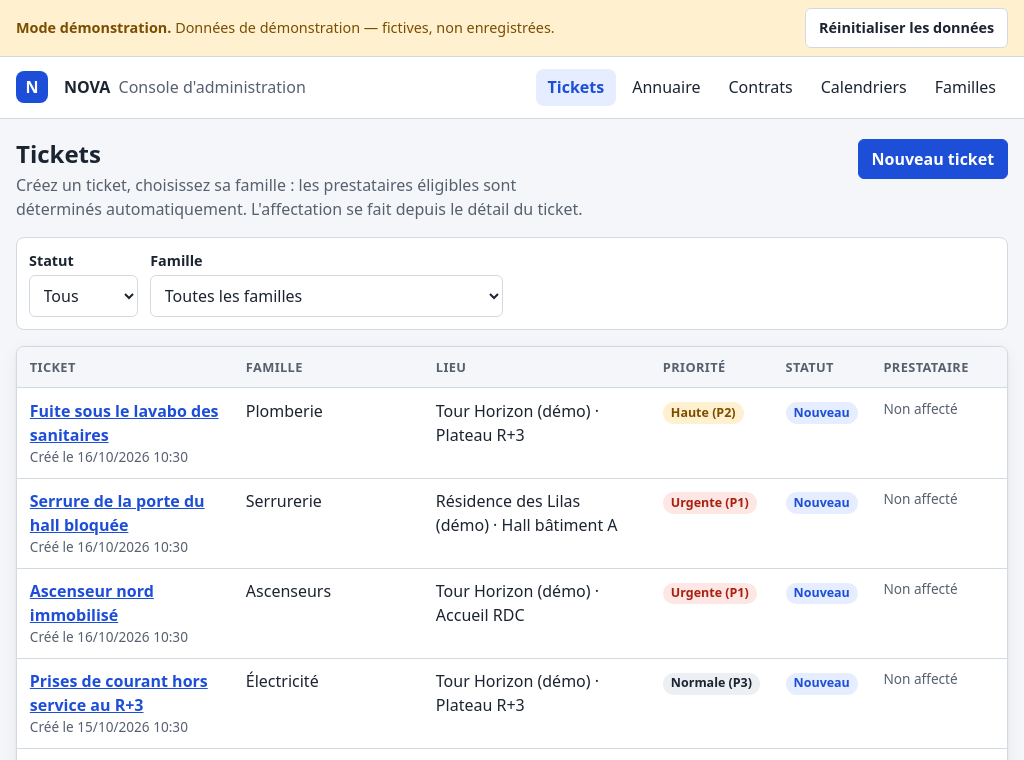
Test: liste et création de tickets › erreur serveur à la création : message dans la fenêtre
Click the button "Nouveau ticket" at {"x": 933, "y": 159}, box [858,139,1008,179]
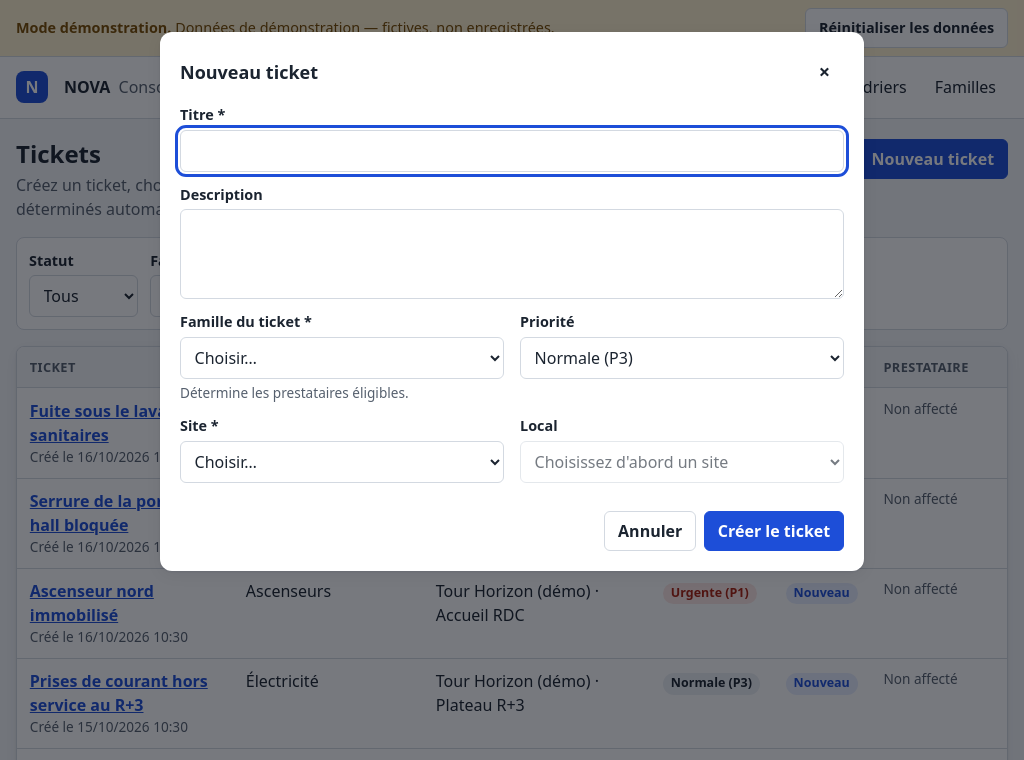
Type "X" into the field labelled "Titre *" at {"x": 512, "y": 151}, box [180,130,844,172]
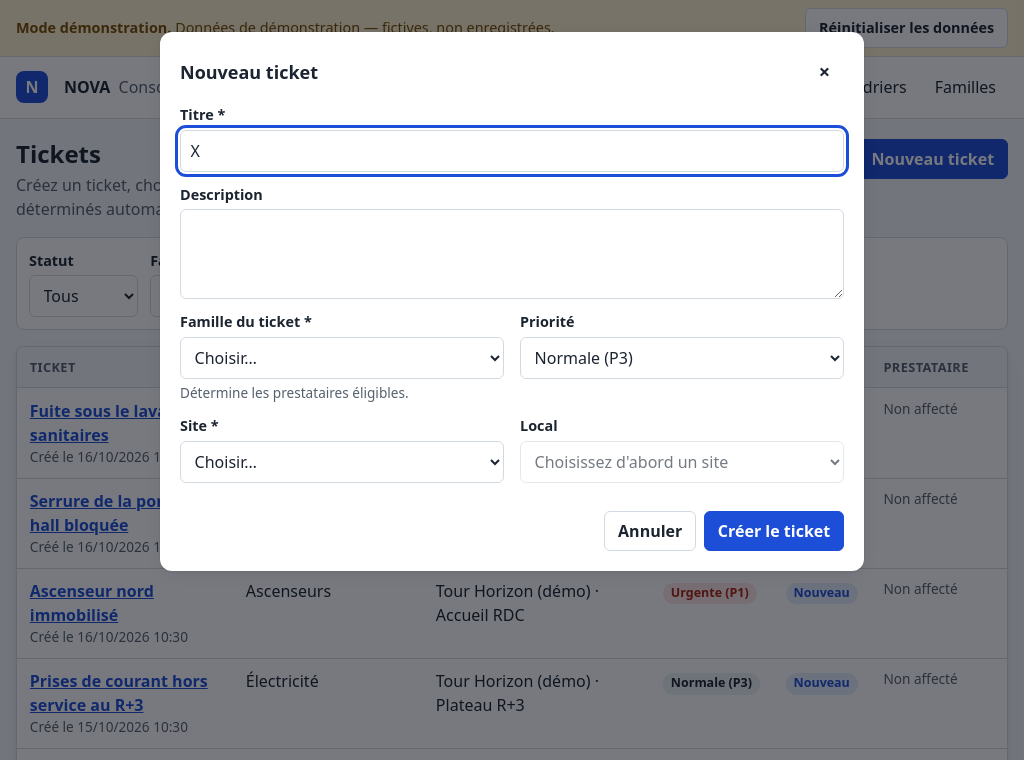
Select "Plomberie" in the dropdown labelled "Famille du ticket *" at {"x": 342, "y": 358}, box [180,337,504,379]
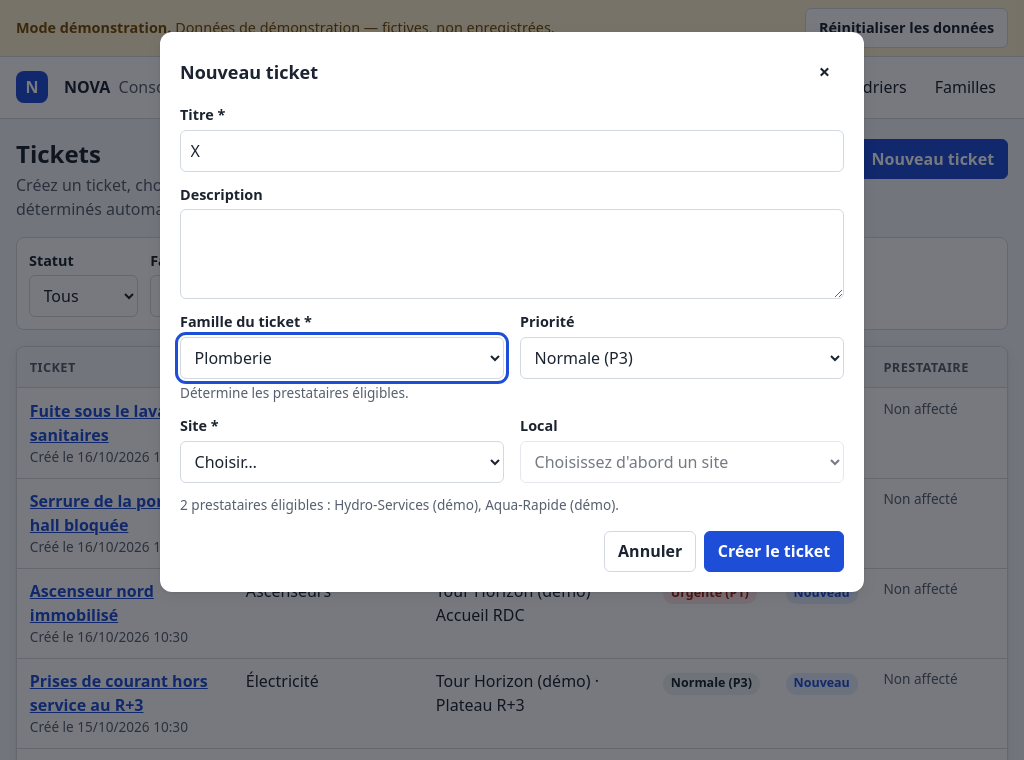
Select "Tour Horizon (démo)" in the dropdown labelled "Site *" at {"x": 342, "y": 462}, box [180,441,504,483]
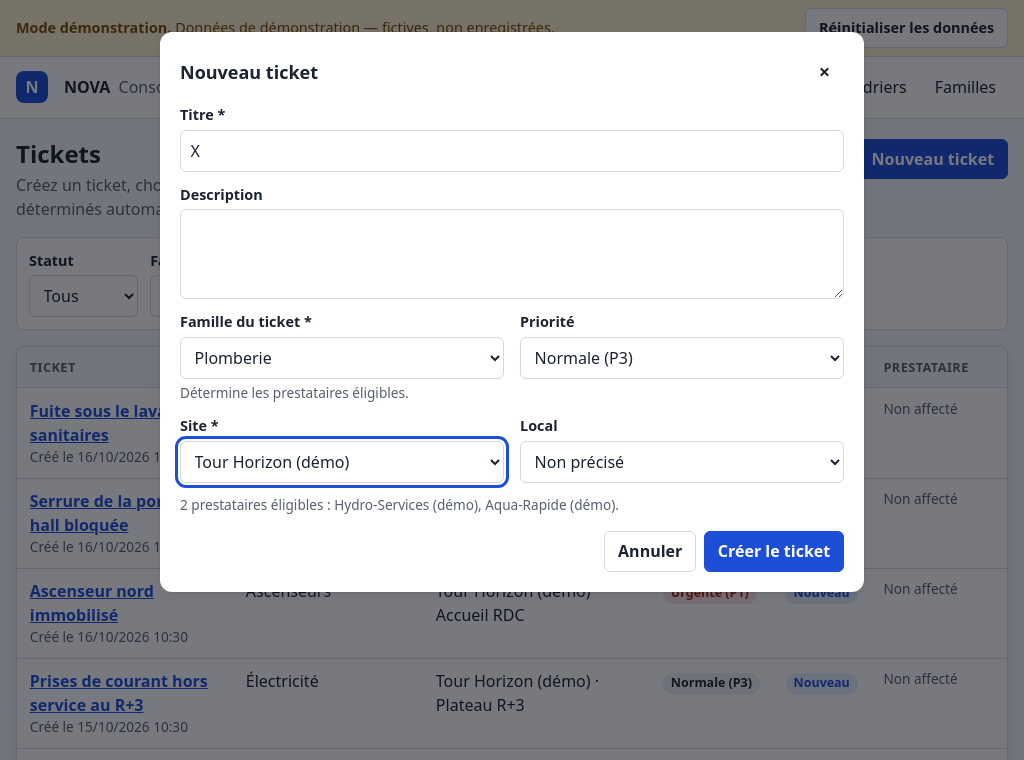
Click the button "Créer le ticket" at {"x": 774, "y": 551}, box [704,531,844,572]
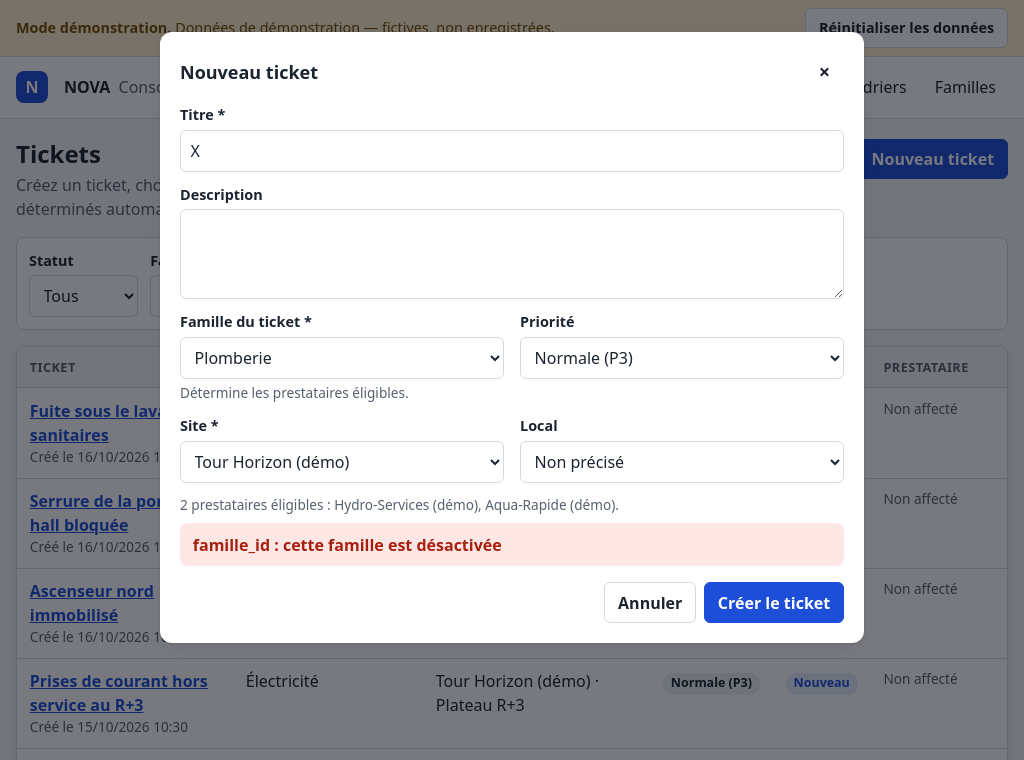
Now the message "famille_id : cette famille est désactivée" is shown, box [180,523,844,566]
